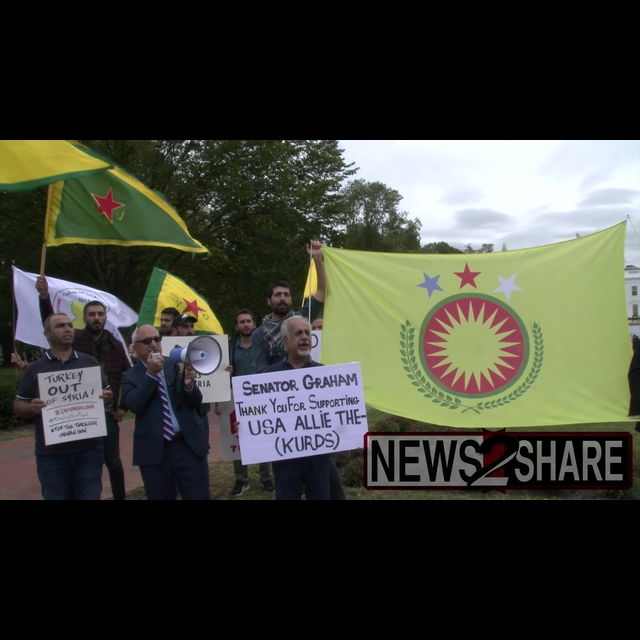YPG: (174, 290, 210, 325)
